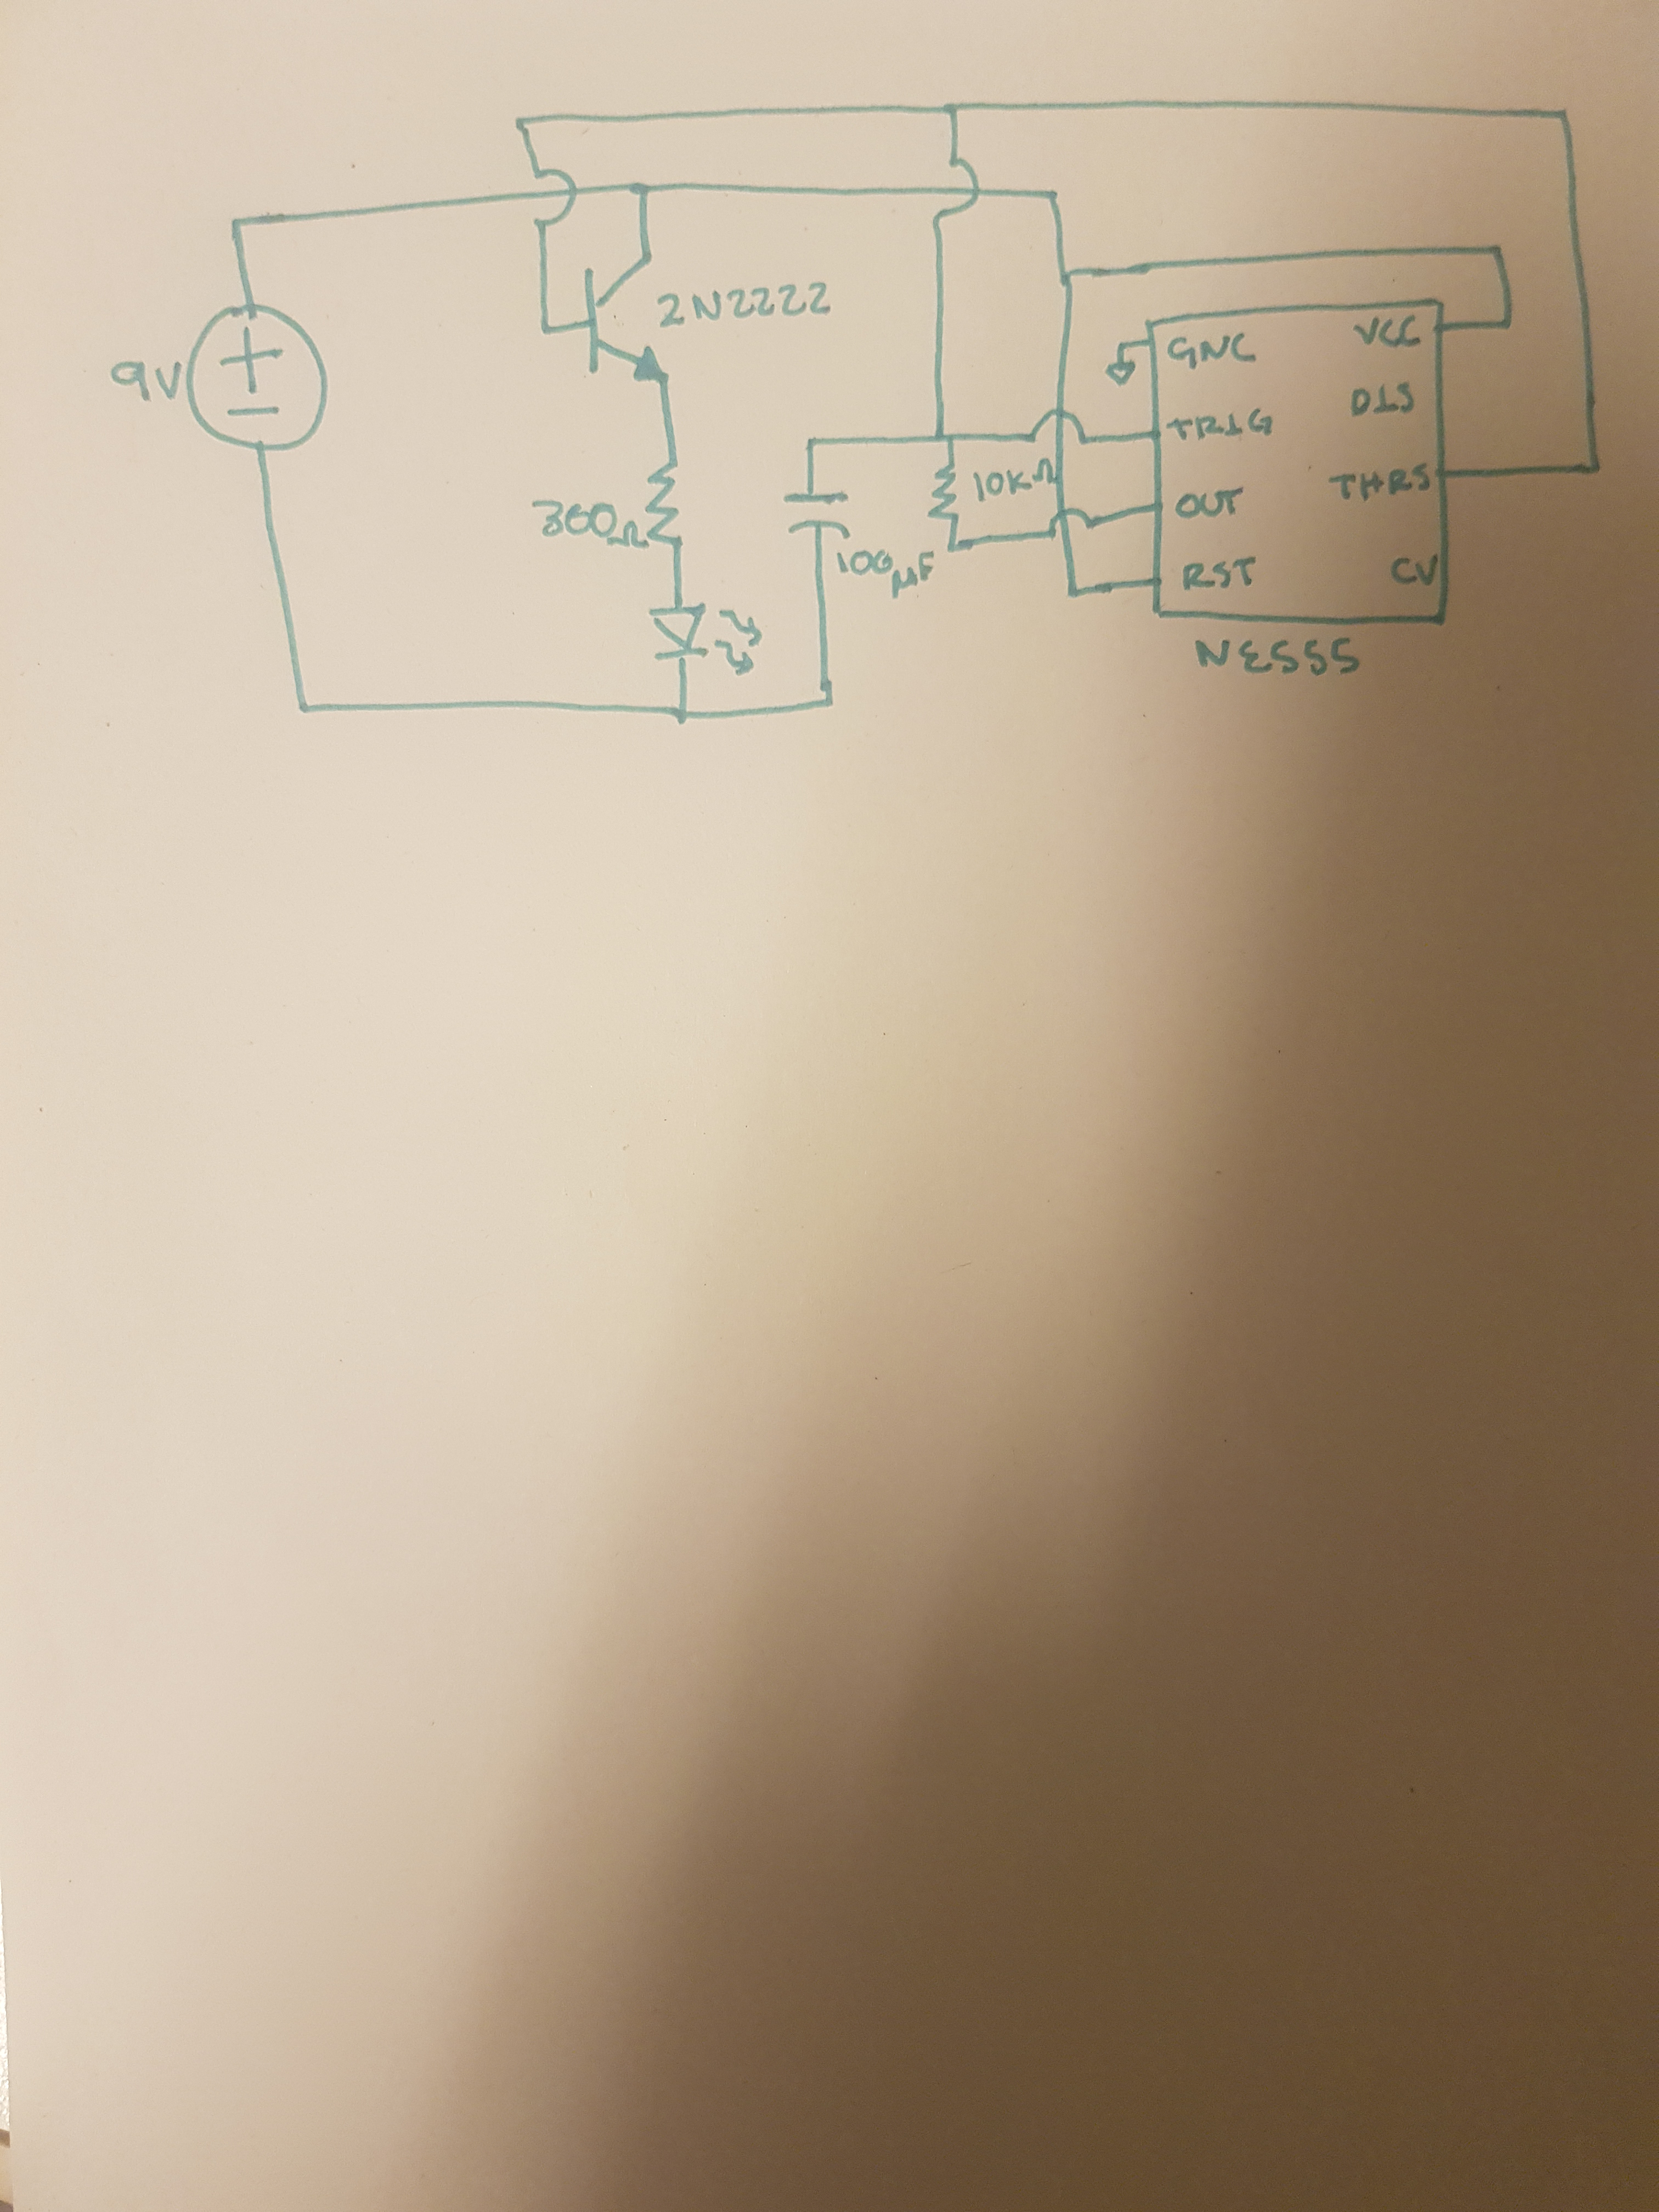capacitor.unpolarized: (777, 481, 857, 545)
crossover: (927, 150, 983, 228), (528, 165, 580, 230), (1021, 406, 1093, 453), (1044, 505, 1100, 543)
diode.light_emitting: (643, 592, 770, 683)
gnd: (1103, 355, 1140, 392)
integrated_cricuit.ne555: (1143, 296, 1457, 631)
junction: (667, 702, 697, 732), (1579, 453, 1607, 481), (1549, 103, 1577, 131), (627, 176, 657, 202), (1054, 266, 1079, 296), (816, 690, 842, 716), (1483, 237, 1511, 261), (927, 428, 962, 448), (938, 98, 965, 120), (291, 697, 319, 719), (1039, 185, 1066, 207), (227, 214, 253, 237), (1495, 312, 1518, 336), (535, 315, 558, 338), (943, 535, 965, 557), (1063, 580, 1084, 604), (800, 434, 824, 453), (512, 113, 533, 132), (1114, 338, 1129, 354)
resistor: (640, 451, 695, 561), (924, 458, 967, 528)
text: (655, 280, 835, 331), (1192, 634, 1364, 685), (528, 495, 652, 554), (830, 547, 936, 601), (1330, 460, 1432, 505), (1162, 329, 1262, 371), (1166, 404, 1277, 441), (105, 359, 185, 406), (1176, 554, 1262, 592), (1349, 312, 1427, 350), (1349, 378, 1417, 420), (1173, 484, 1244, 519), (971, 467, 1037, 503), (1385, 552, 1441, 590)
transistor: (577, 253, 678, 390)
voltage.dc: (179, 300, 331, 460)
